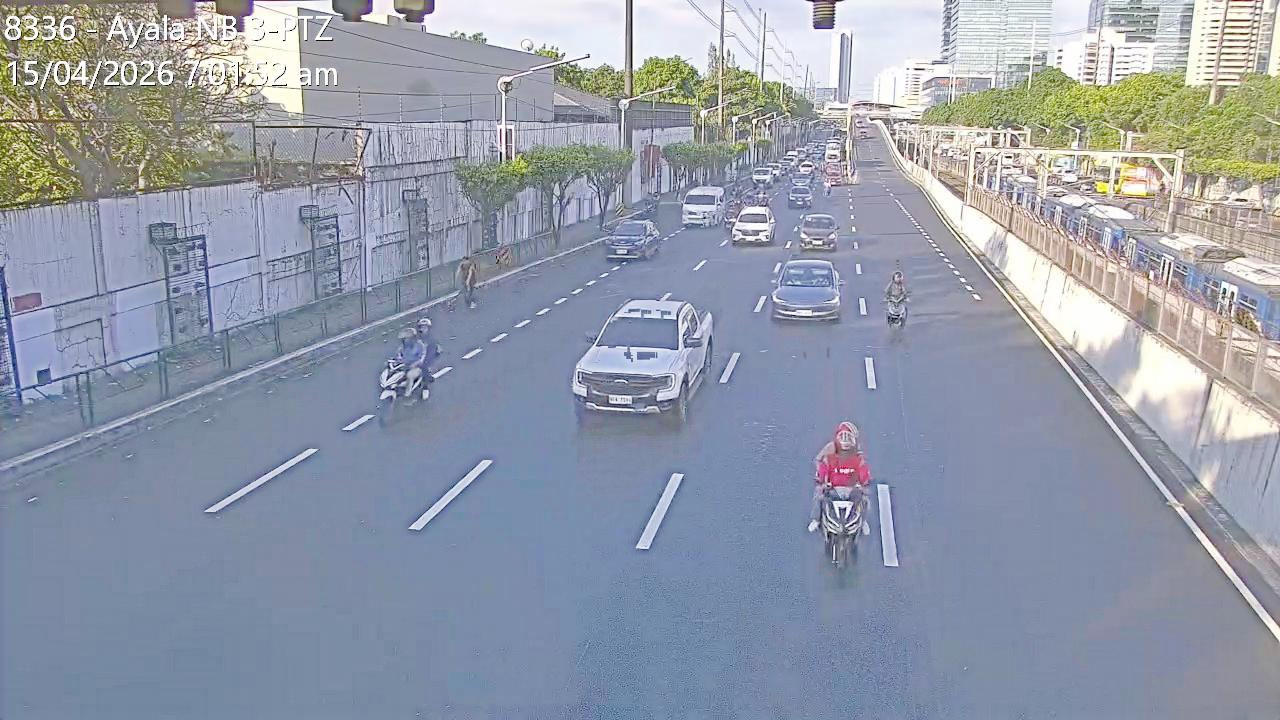Car: (571, 297, 712, 426), (769, 257, 843, 322), (604, 217, 661, 261), (680, 185, 726, 227), (730, 205, 777, 246), (796, 211, 840, 250), (787, 180, 815, 209), (751, 165, 777, 189)
Motor: (806, 412, 874, 584), (368, 318, 436, 428), (447, 252, 480, 309), (884, 286, 909, 332)
